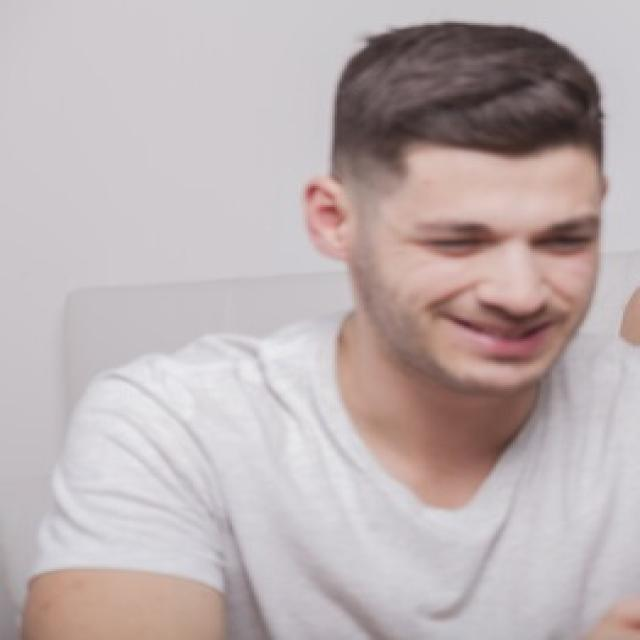human: (24, 15, 640, 640)
